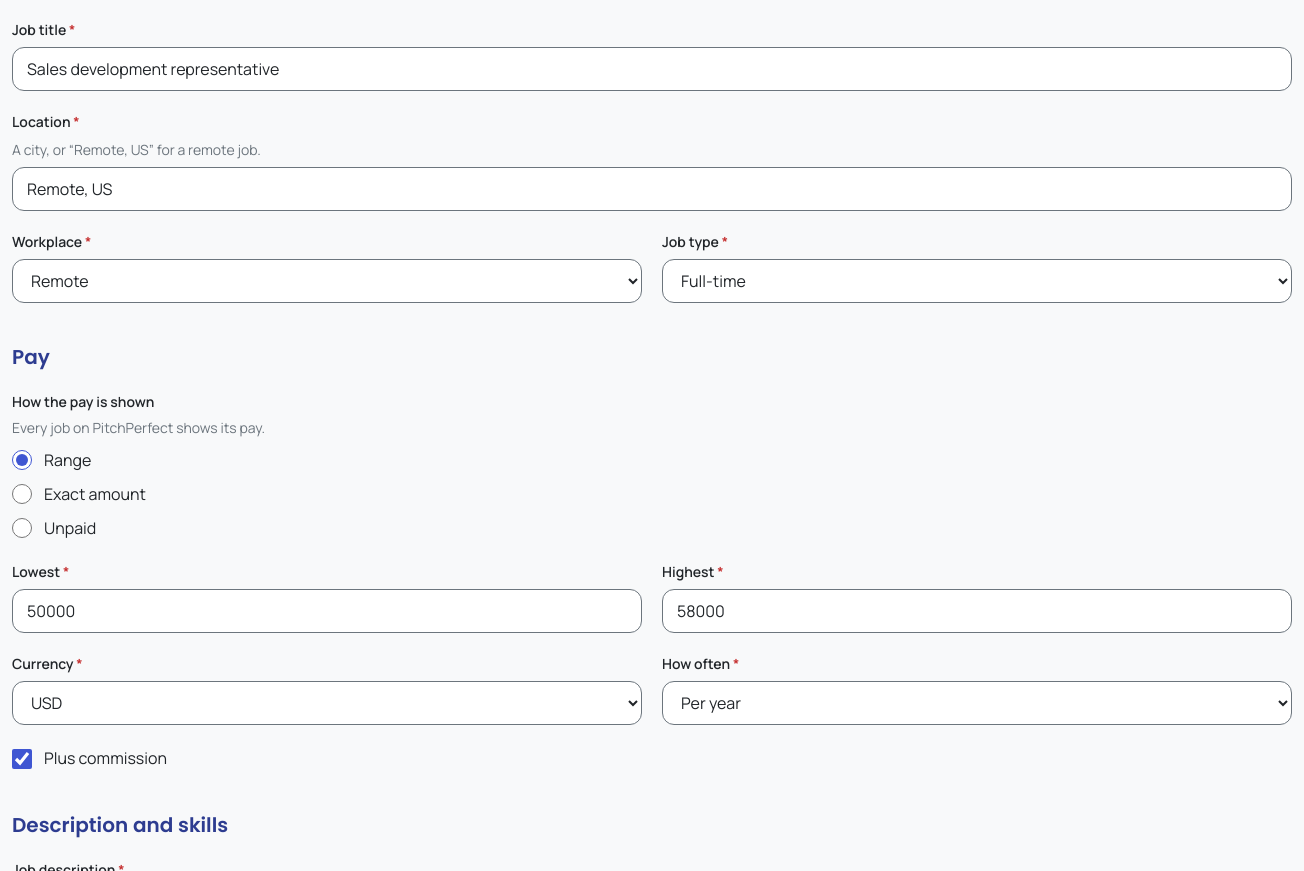
Test: JobForm › blocks publishing when the range minimum is above the maximum
This screenshot has width=1304, height=871.
Replace the text in the field labelled "Lowest *" with "70000": (327, 611) 12,589 -> 642,633
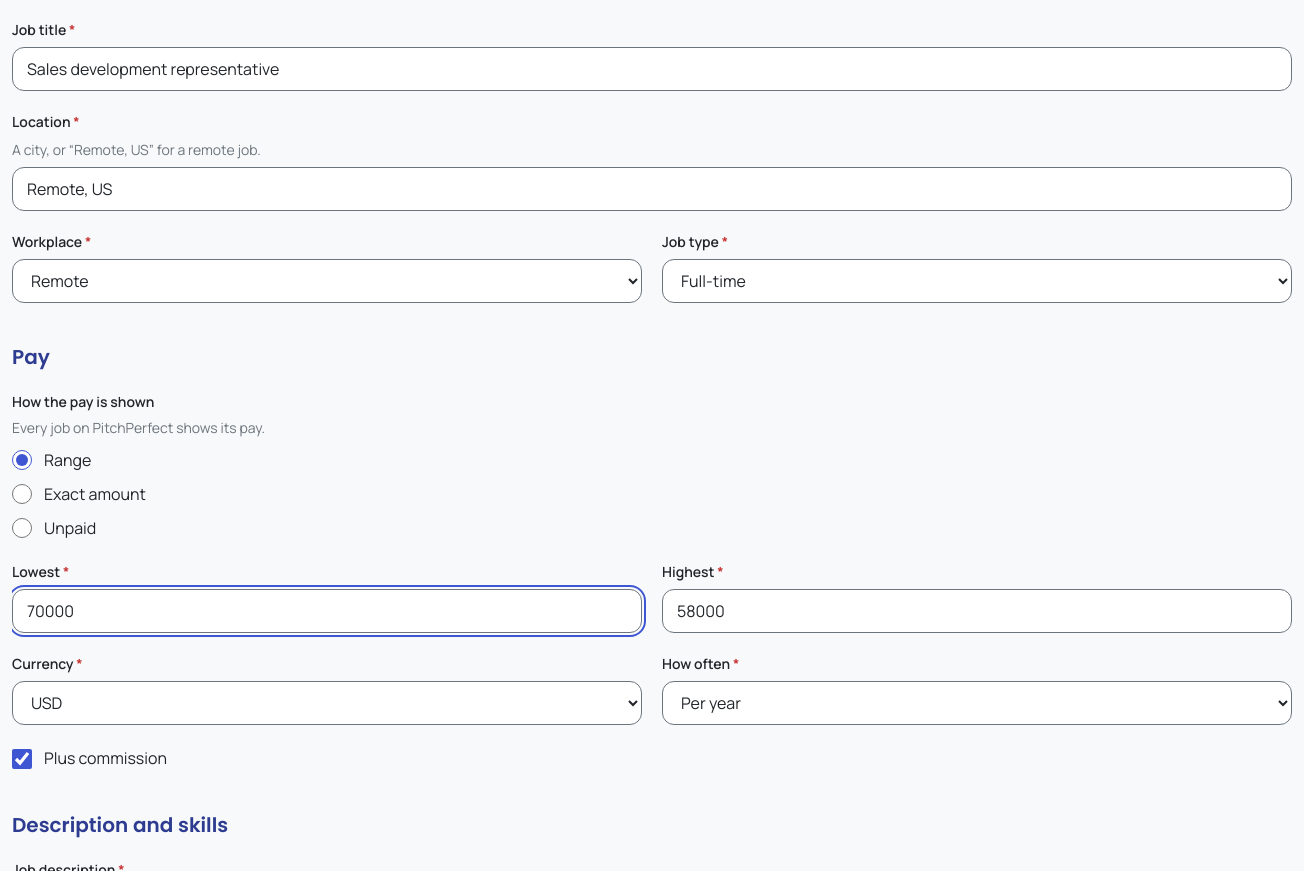
Replace the text in the field labelled "Highest *" with "60000": (977, 611) 662,589 -> 1292,633
(page scrolled)
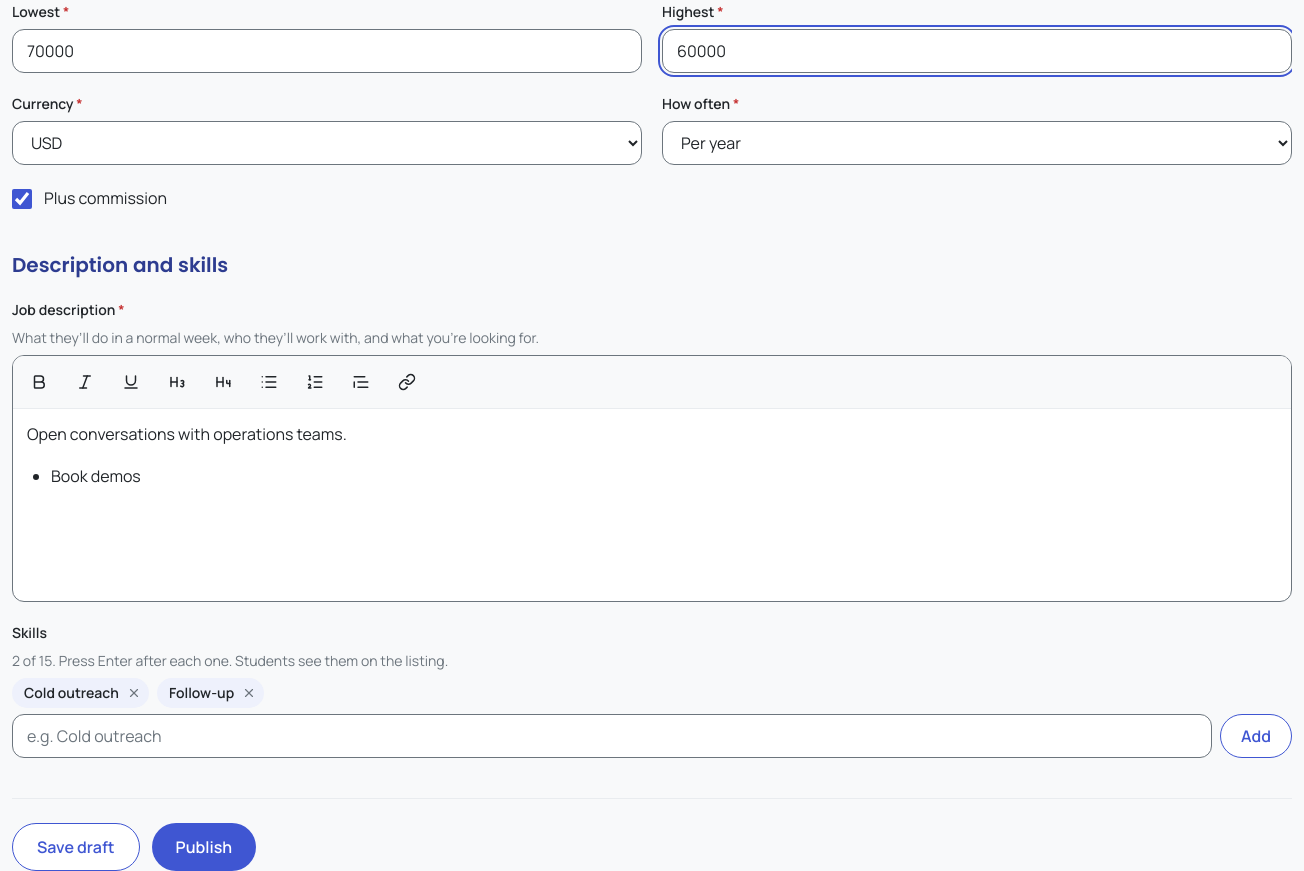
Click the button "Publish": (204, 847) 152,823 -> 256,870
(page scrolled)
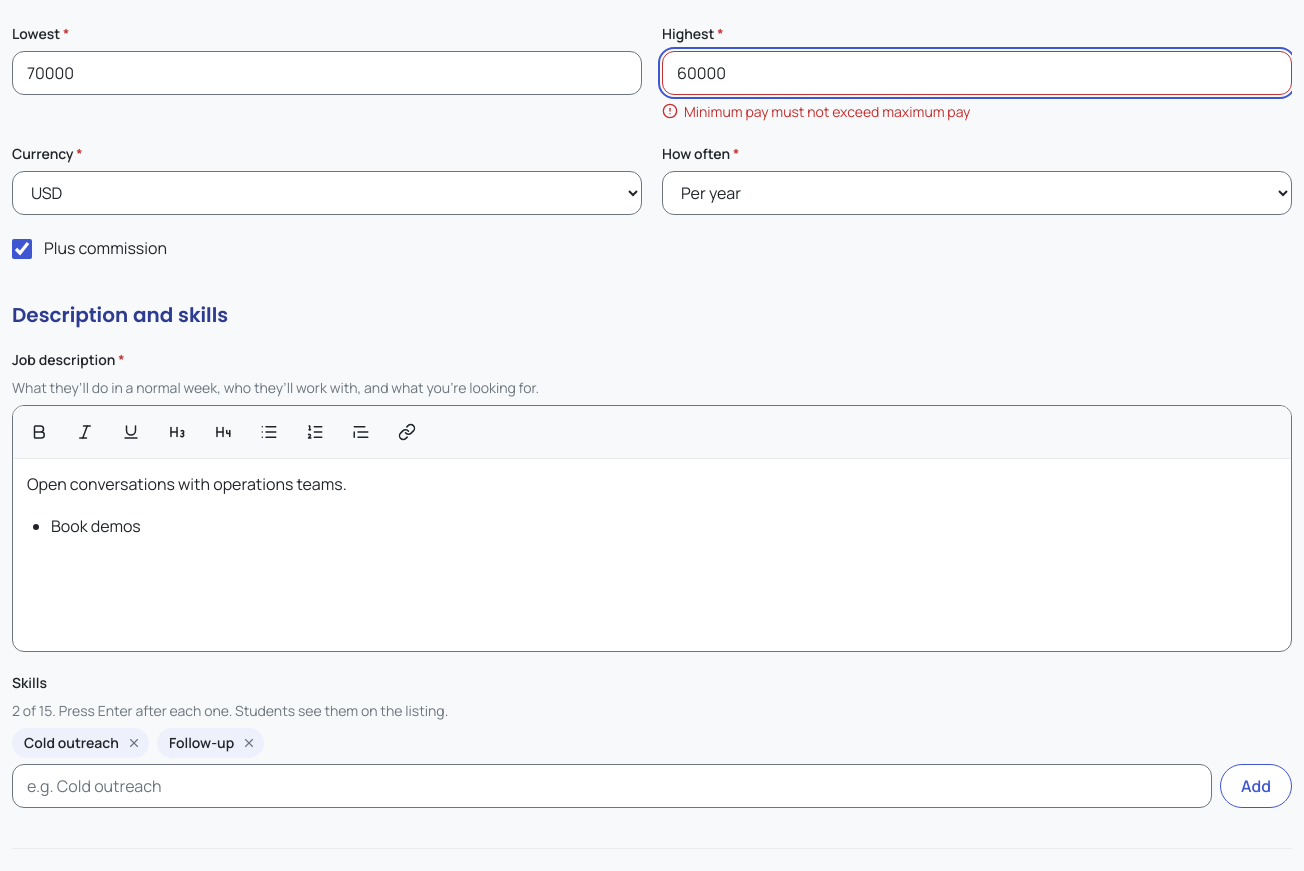
Check: the text "Minimum pay must not exceed maximum pay" is shown, box 684,101 -> 970,123
